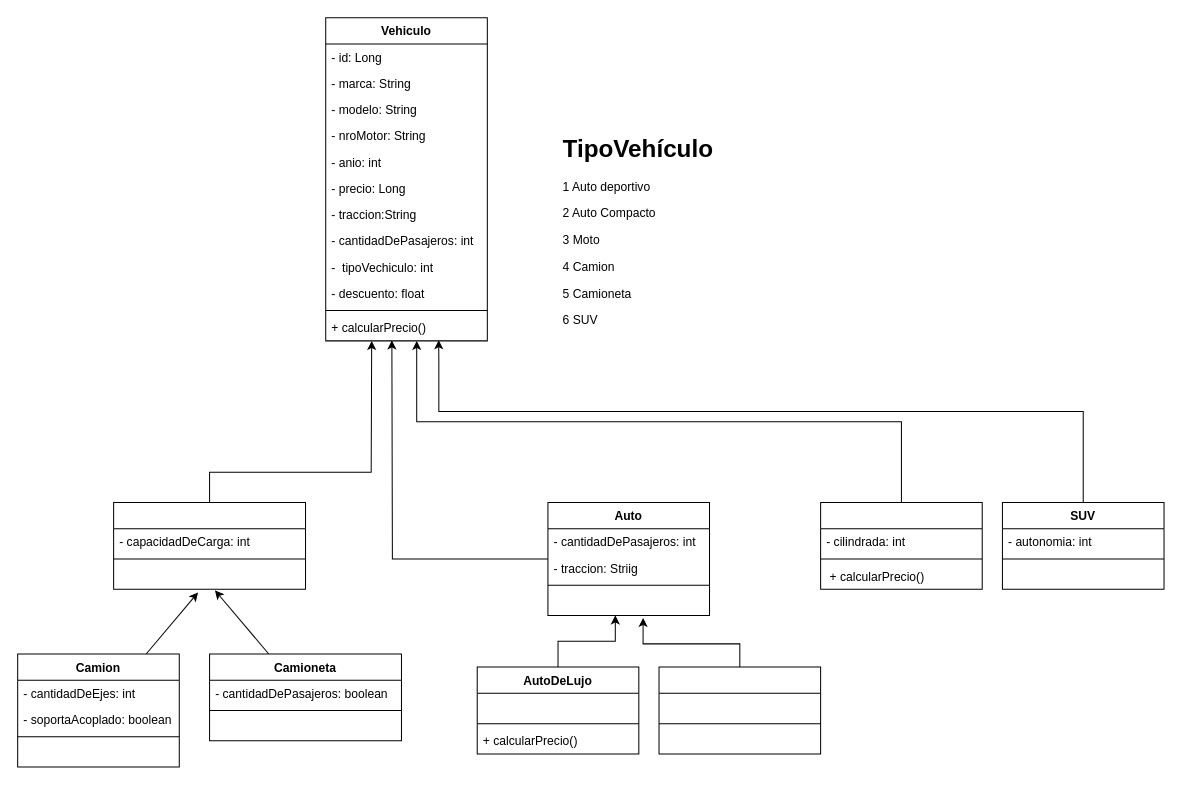
Some shapes in this 1182 by 788 pixel diagram are drawn without their labels. The shapes that lost their labels are listed below. From the top down, each one's box as (x1, y1, x2, y2) in pixels, then its label:
(113, 501, 306, 589): VehiculoDeCarga
(820, 501, 982, 589): Motos
(658, 666, 821, 754): AutoCompacto
